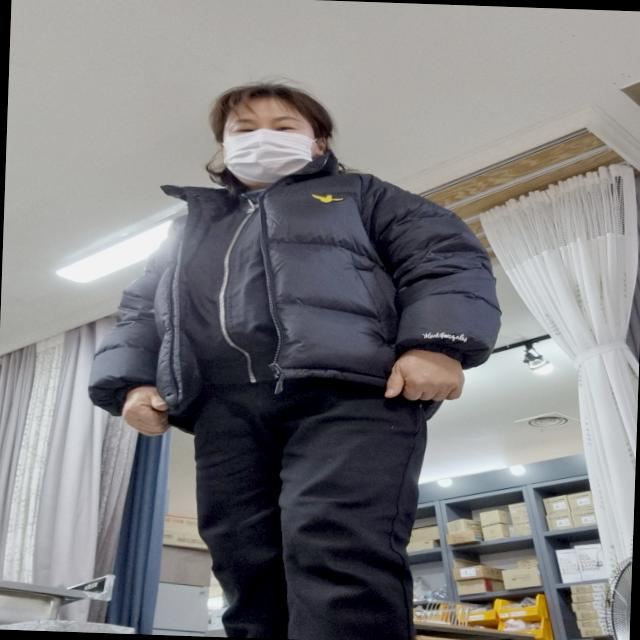denimpants: (161, 366, 439, 640)
padding: (76, 153, 503, 424)
